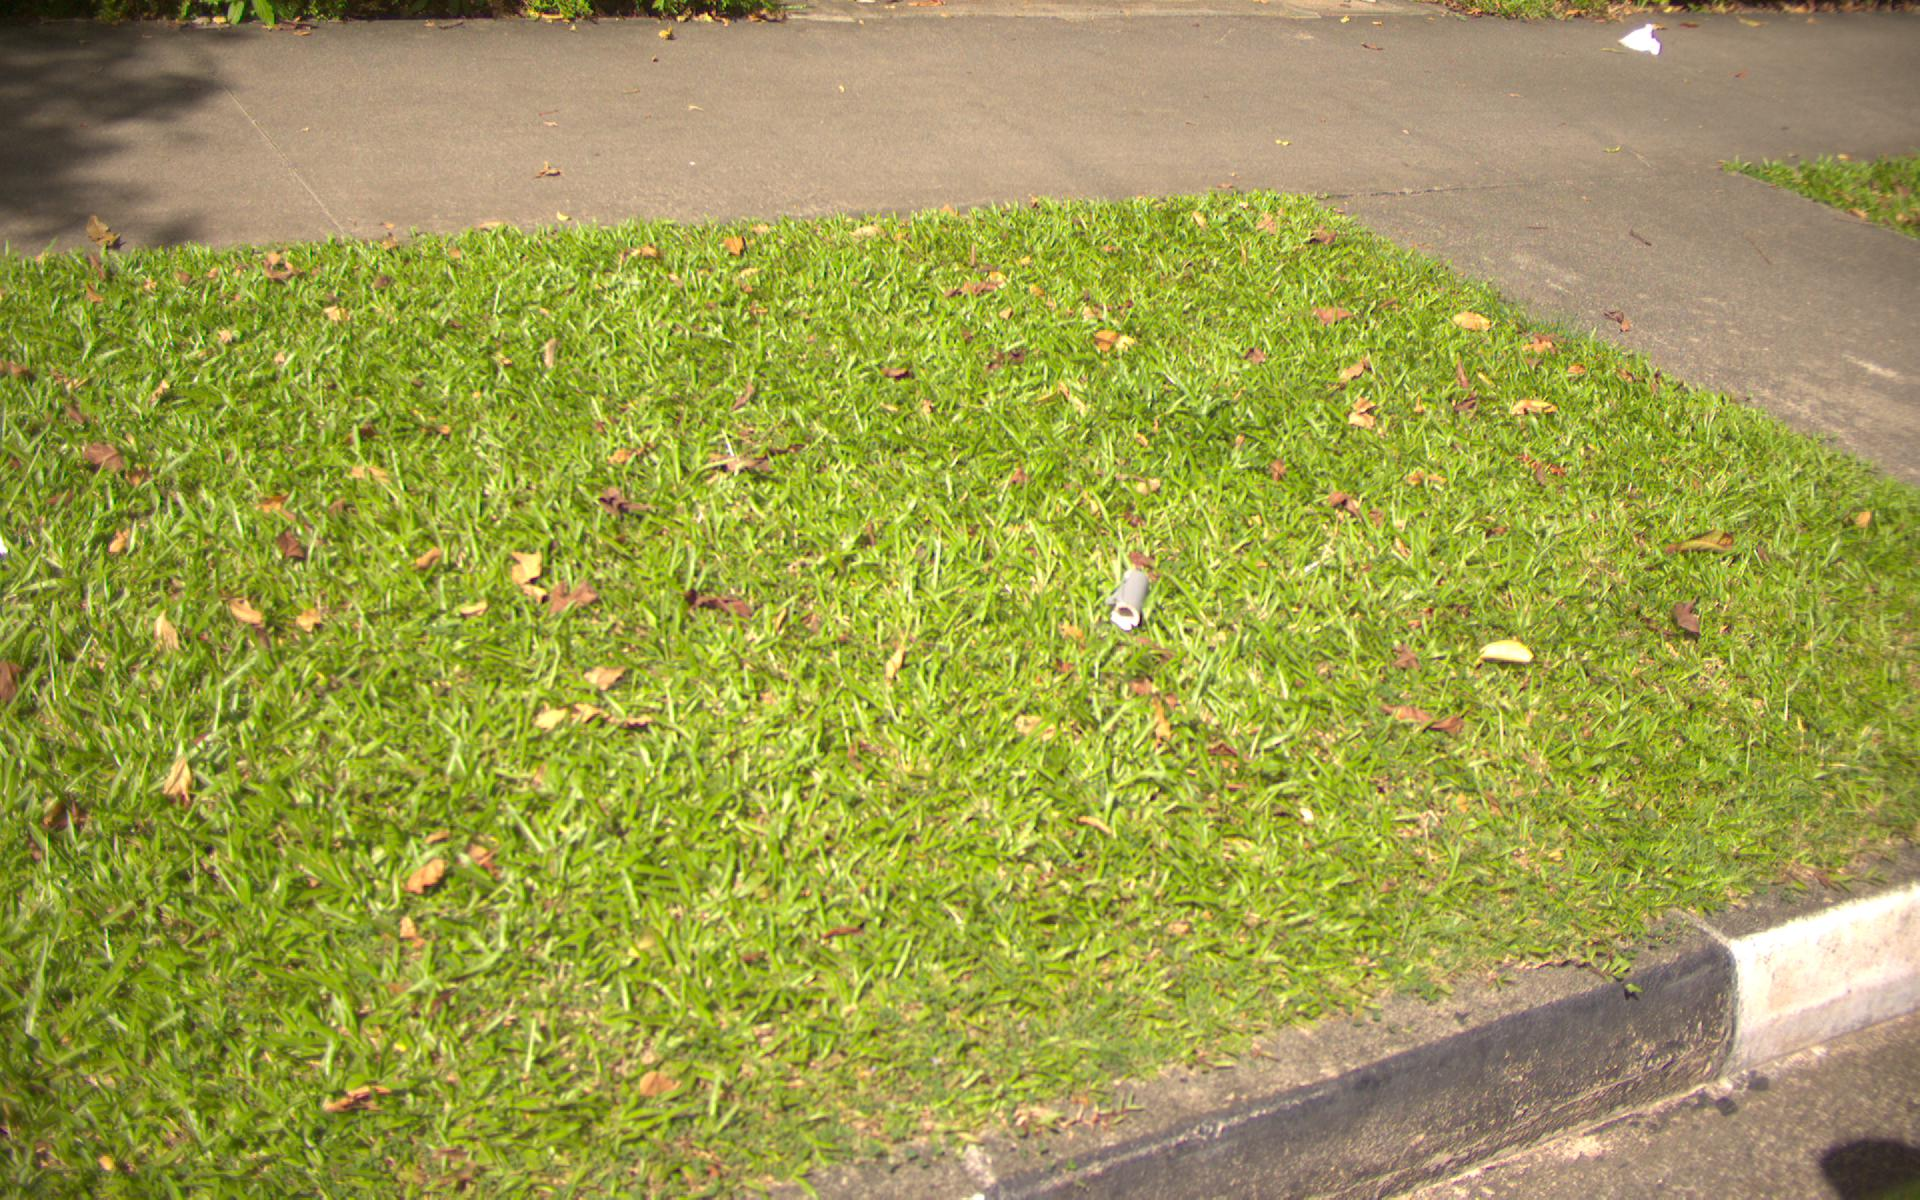pathway_low: (17, 21, 1920, 151)
road_turf_low: (4, 260, 1456, 962)
